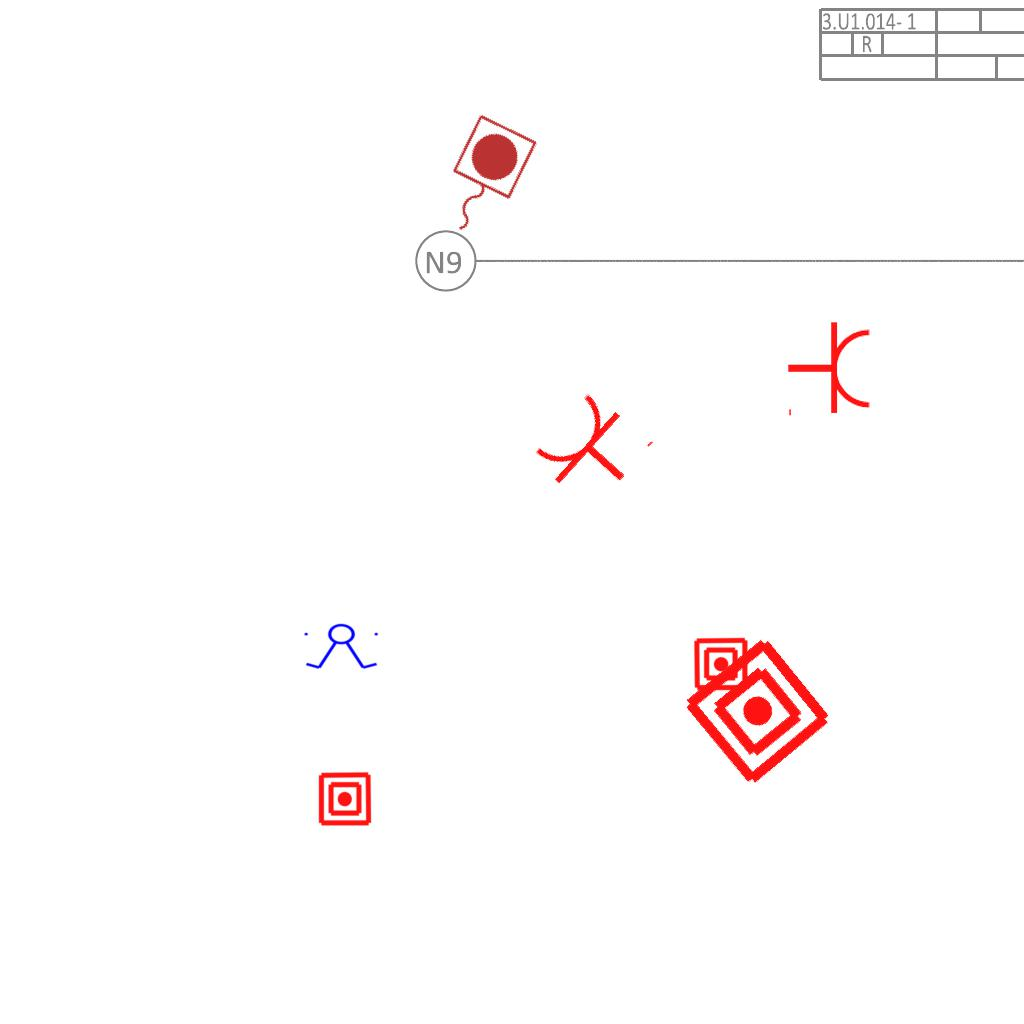NAM-Nichtautomatischer_Melder: (678, 632, 837, 791), (317, 771, 373, 827), (693, 636, 749, 692)
Schukosteckdose_einfach: (526, 382, 659, 516), (786, 320, 873, 420)
Serienschalter: (300, 623, 384, 671)
Zugtaster: (423, 108, 543, 250)
